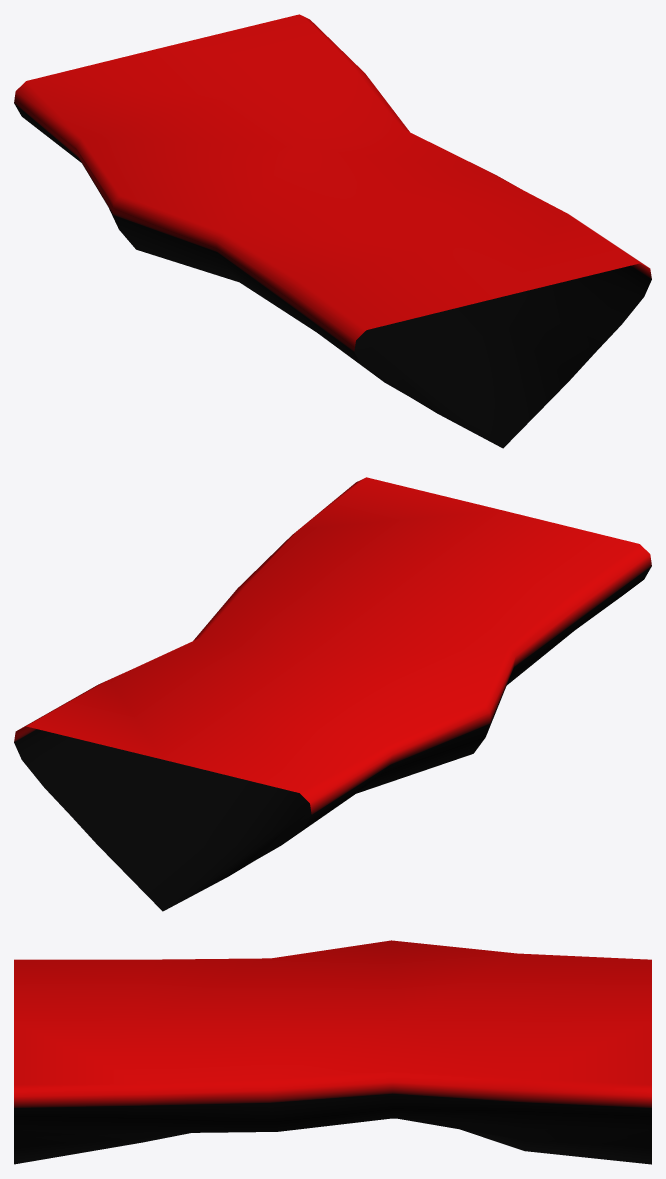
Rendered from CrossingCliff01C 1M Background.fbx.
3 views of the same model, one above another, from view 1: azimuth 30°, elevation 25°; view 2: azimuth 150°, elevation 25°; view 3: azimuth 270°, elevation 25° (orthographic). The views are drawn at different scales.
Visible parts, largest first — view 1: CrossingCliff01C 1M Background; view 2: CrossingCliff01C 1M Background; view 3: CrossingCliff01C 1M Background.
Part boxes in pixels (x1,y1,x2,y2): CrossingCliff01C 1M Background: [14, 14, 651, 448]; CrossingCliff01C 1M Background: [14, 477, 651, 911]; CrossingCliff01C 1M Background: [14, 940, 651, 1164].
Size of the model in its own units: 1.14 by 0.493 by 2.
